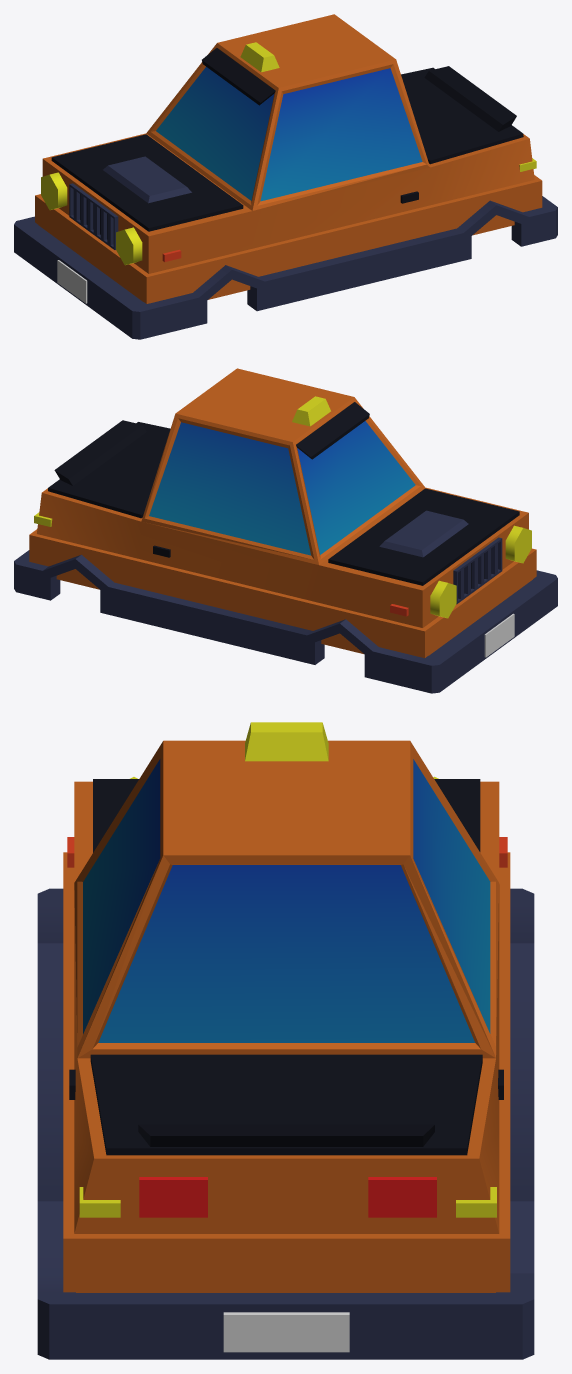
File: Car3.FBX
3 views of the same model, one above another, from view 1: azimuth 30°, elevation 25°; view 2: azimuth 150°, elevation 25°; view 3: azimuth 270°, elevation 25° (orthographic). The views are drawn at different scales.
Visible parts, largest first — view 1: car3; view 2: car3; view 3: car3.
Part boxes in pixels (x1,y1,x2,y2): car3: (14,14,557,339); car3: (14,368,557,693); car3: (37,722,534,1359).
Bounding box in the file's own units: 65.94 × 29.28 × 33.
